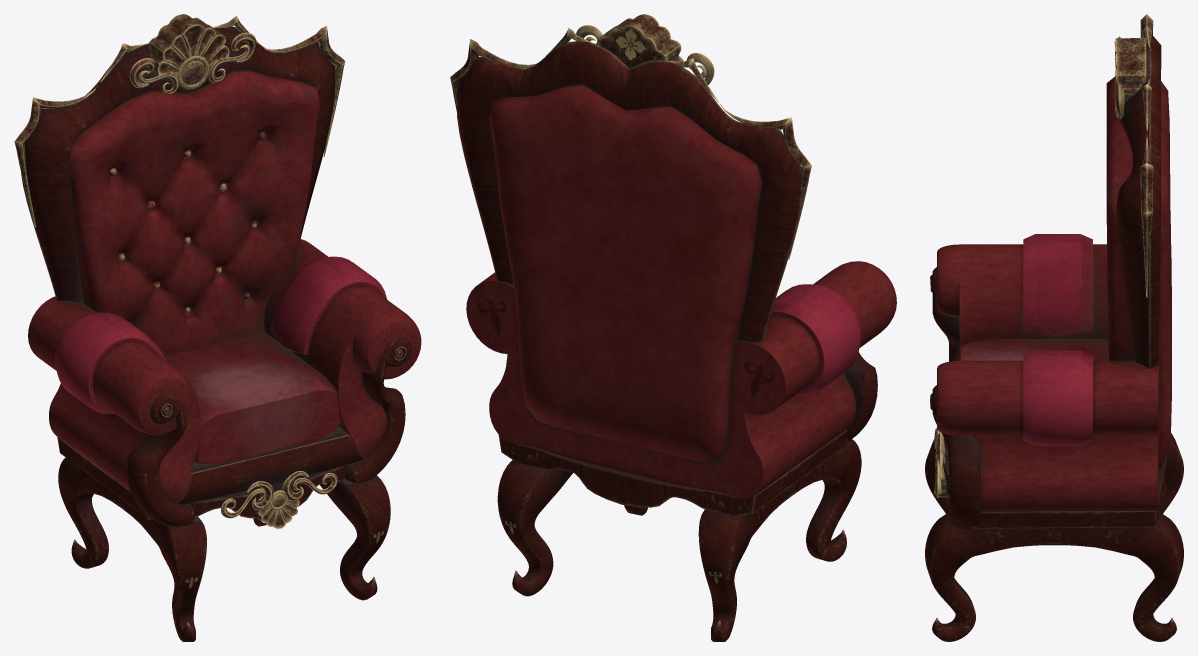
The model's file is dm-chair.glb.
The picture shows the model from 3 angles, left to right: view 1: azimuth 30°, elevation 25°; view 2: azimuth 150°, elevation 25°; view 3: azimuth 270°, elevation 25°; orthographic projection. The views are drawn at different scales.
Parts seen in each view (by area): view 1: Plane.002_low, Cylinder_low, NurbsPath.002_low, Cube_low, NurbsPath.001_low, Cylinder.005_low, ones_low, Cube.001_low, NurbsPath.005_low, NurbsPath_low, NurbsPath.004_low, twos_low; view 2: Plane.002_low, Cylinder_low, NurbsPath.002_low, NurbsPath.001_low, Cube.001_low, ones_low, NurbsPath.005_low, Cylinder.005_low, NurbsPath.004_low; view 3: Cylinder_low, NurbsPath.001_low, NurbsPath.002_low, Plane.002_low, Cylinder.005_low, Cube.001_low, Cube_low, NurbsPath.005_low, ones_low, NurbsPath_low, NurbsPath.004_low.
Boxes of the visible parts, box(x1,y1,x2,y2) form: Plane.002_low: box(70, 71, 320, 356); Cylinder_low: box(28, 239, 421, 504); NurbsPath.002_low: box(21, 26, 335, 303); Cube_low: box(165, 332, 340, 464); NurbsPath.001_low: box(58, 457, 390, 641); Cylinder.005_low: box(127, 336, 411, 526); ones_low: box(148, 14, 229, 89); Cube.001_low: box(57, 437, 347, 519); NurbsPath.005_low: box(14, 15, 345, 227); NurbsPath_low: box(221, 471, 337, 518); NurbsPath.004_low: box(129, 32, 256, 94); twos_low: box(254, 490, 299, 529); Plane.002_low: box(488, 85, 761, 462); Cylinder_low: box(466, 261, 896, 499); NurbsPath.002_low: box(456, 41, 802, 342); NurbsPath.001_low: box(497, 439, 861, 641); Cube.001_low: box(498, 429, 850, 515); ones_low: box(596, 14, 684, 68); NurbsPath.005_low: box(450, 28, 811, 259); Cylinder.005_low: box(844, 352, 877, 440); NurbsPath.004_low: box(576, 25, 714, 84); Cylinder_low: box(937, 234, 1159, 512); NurbsPath.001_low: box(925, 433, 1183, 641); NurbsPath.002_low: box(1116, 34, 1161, 368); Plane.002_low: box(1106, 77, 1171, 469); Cylinder.005_low: box(932, 267, 980, 529); Cube.001_low: box(943, 446, 1166, 528); Cube_low: box(960, 339, 1108, 360); NurbsPath.005_low: box(1140, 14, 1153, 297); ones_low: box(1115, 38, 1146, 102); NurbsPath_low: box(934, 428, 945, 496); NurbsPath.004_low: box(1114, 36, 1124, 118).
Size of the model in its own units: 1.43 by 2.21 by 0.9312.
Materials: 1 (1 with a texture image).
